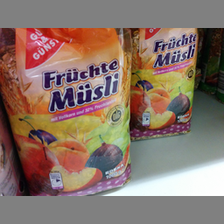cereal: (1, 29, 134, 197), (125, 28, 199, 142)
